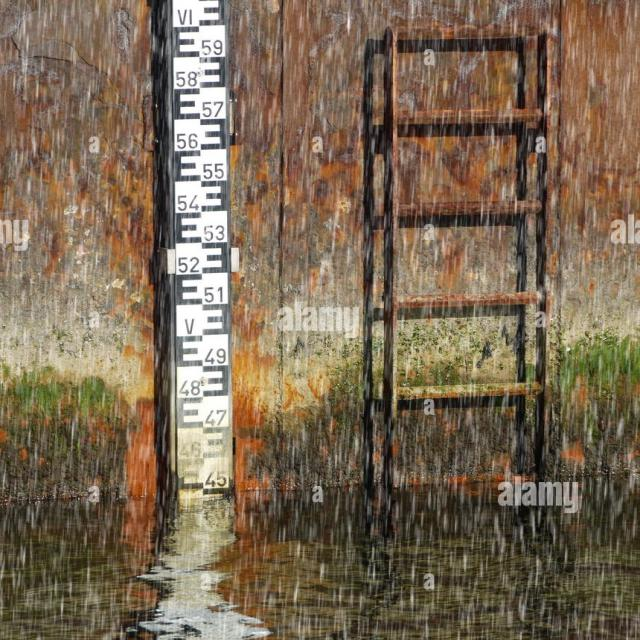ruler: (160, 0, 244, 502)
value: (175, 438, 205, 464), (172, 67, 204, 90), (202, 344, 230, 369), (174, 129, 203, 153), (173, 191, 202, 215), (174, 253, 204, 276), (203, 406, 230, 431), (200, 282, 228, 306), (201, 161, 230, 184), (173, 3, 199, 28), (200, 97, 228, 120), (198, 36, 226, 59), (178, 375, 204, 399), (201, 223, 228, 246), (178, 312, 201, 337), (205, 468, 231, 488)
